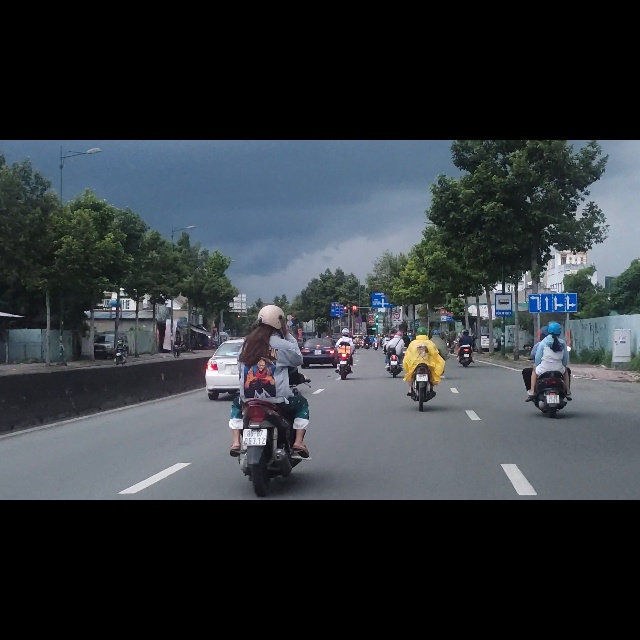bien_hieu_lenh: (495, 273, 512, 313), (394, 306, 400, 318)
